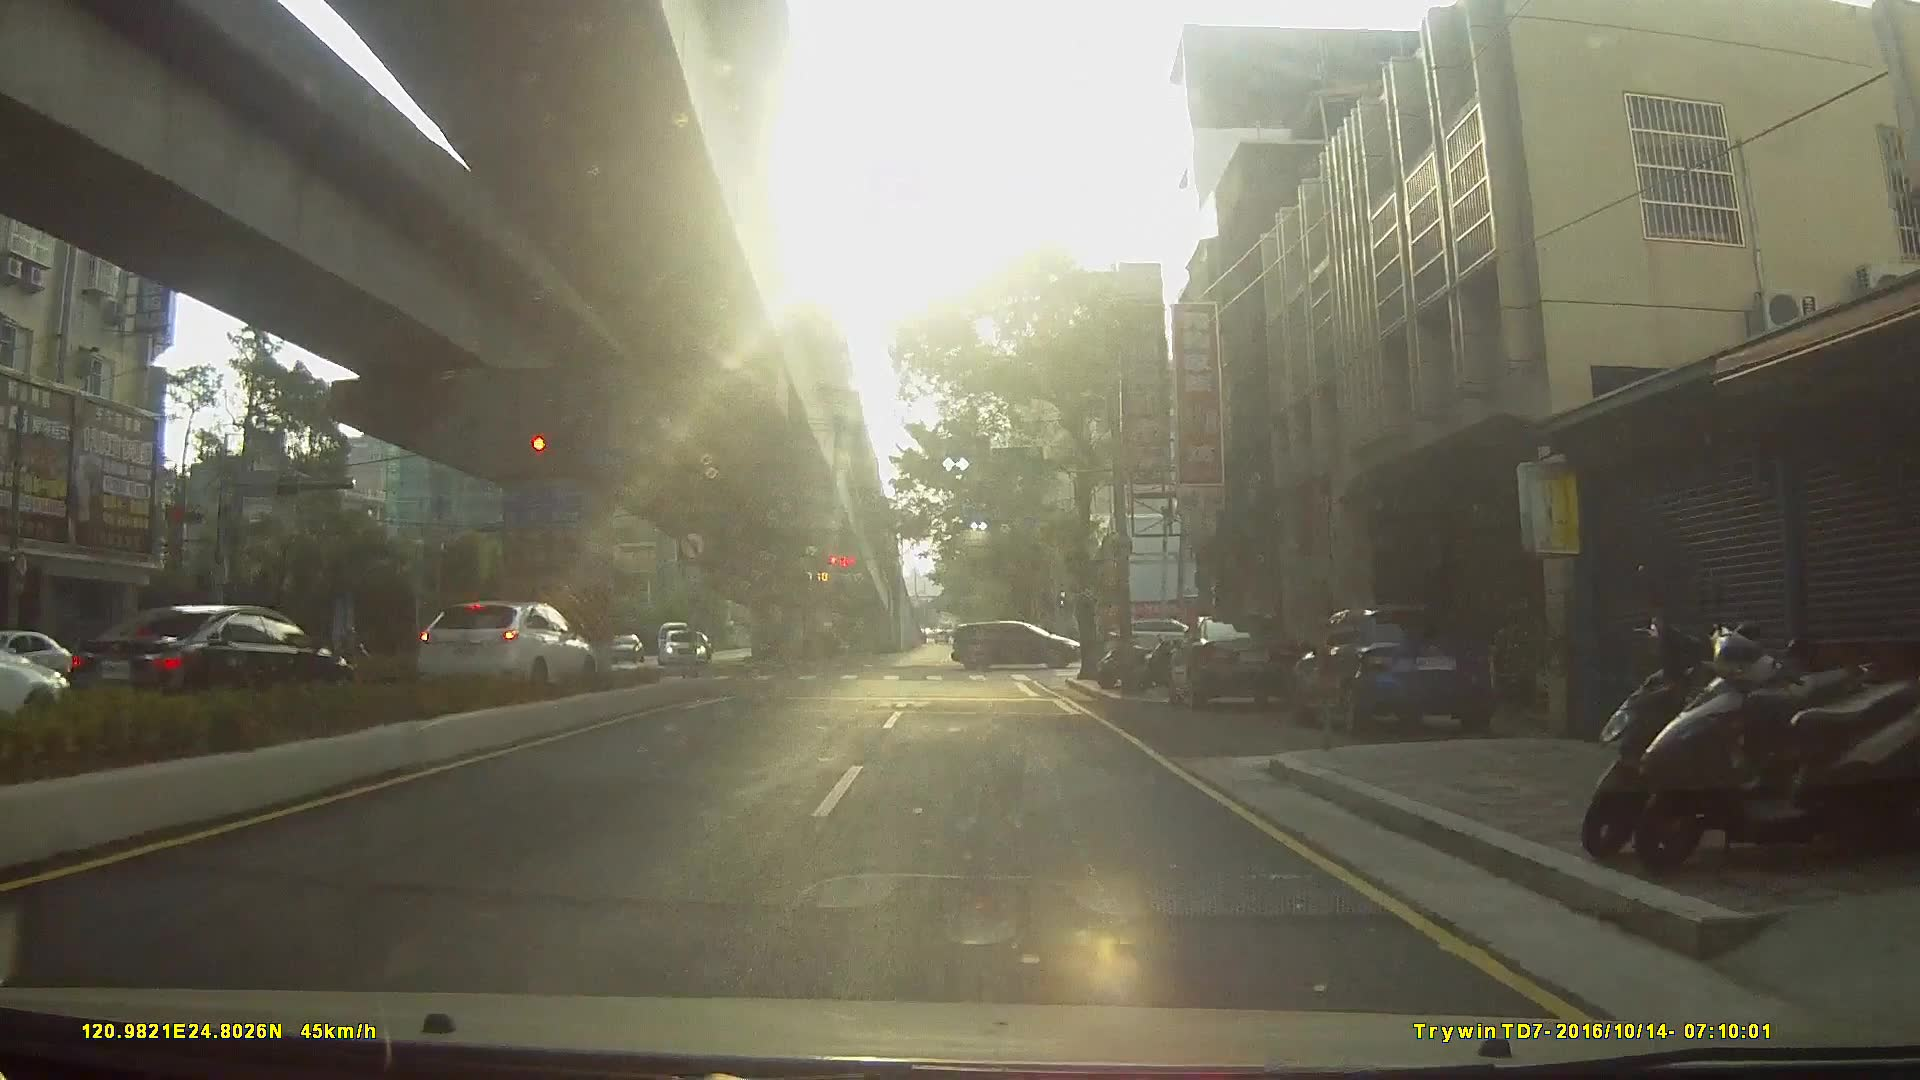vehicle: (44, 593, 365, 717), (1294, 607, 1507, 745), (404, 597, 589, 694), (1167, 615, 1304, 715), (952, 621, 1089, 674), (657, 630, 705, 670), (599, 633, 642, 663)
